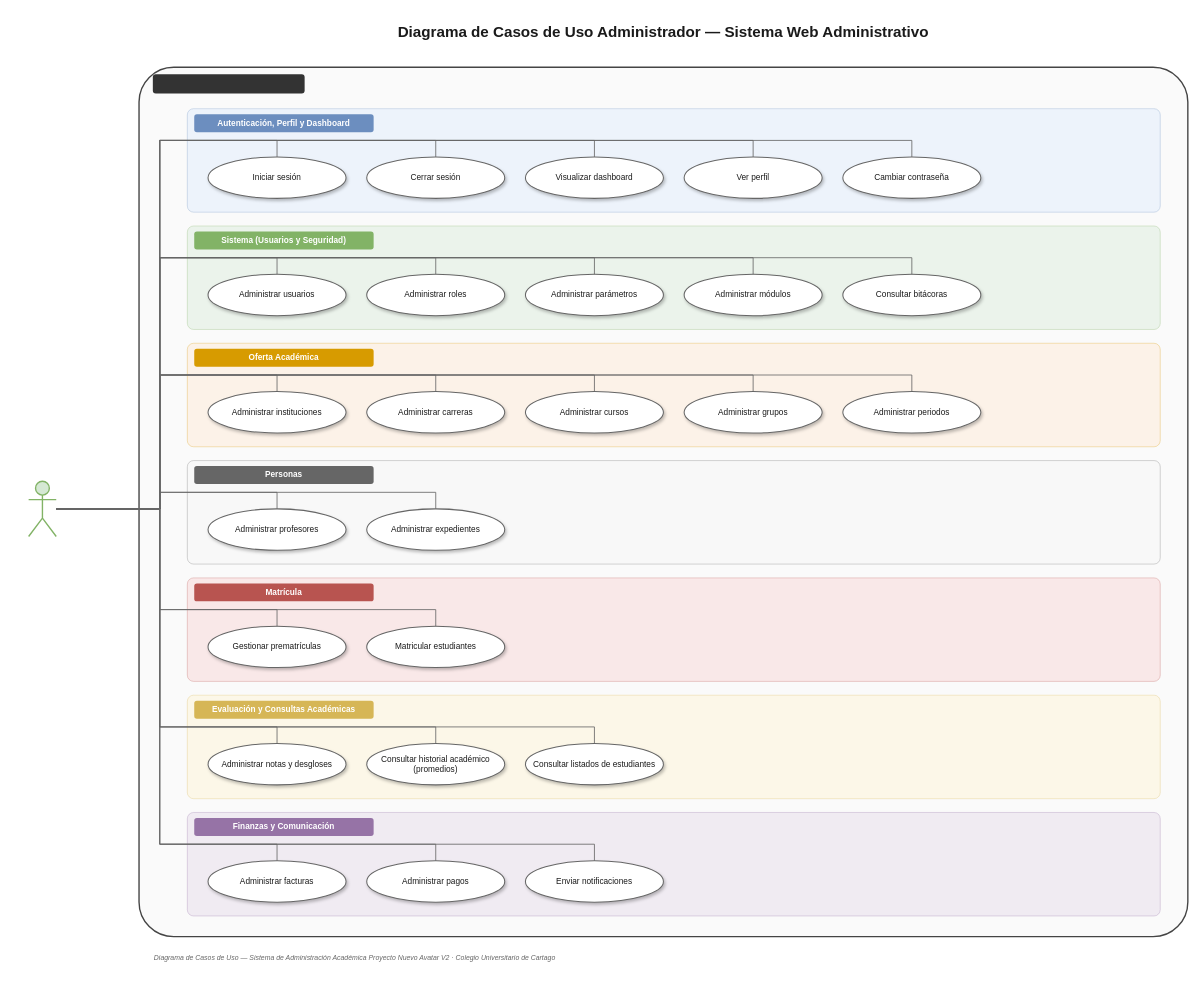
The diagram is 1201 pixels wide and 983 high, and some of its shapes have lost their labels. Here are the shapes that lost their labels. From the top down, the centre of each, then its label:
At (x=228, y=83): "Sistema Web Administrativo".
At (x=42, y=508): "Administrador".
